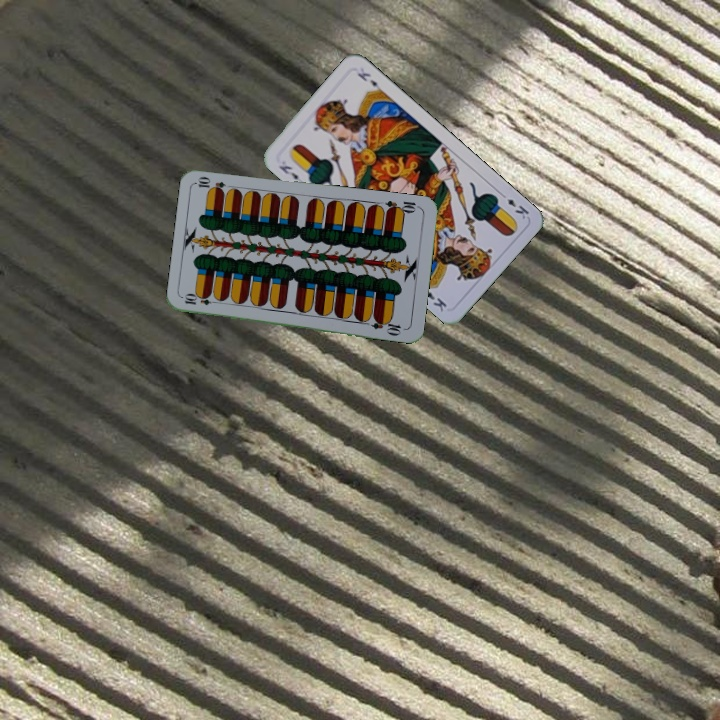E10: (382, 197, 422, 216), (181, 292, 221, 308)
EK: (496, 189, 531, 222), (275, 161, 301, 183)
